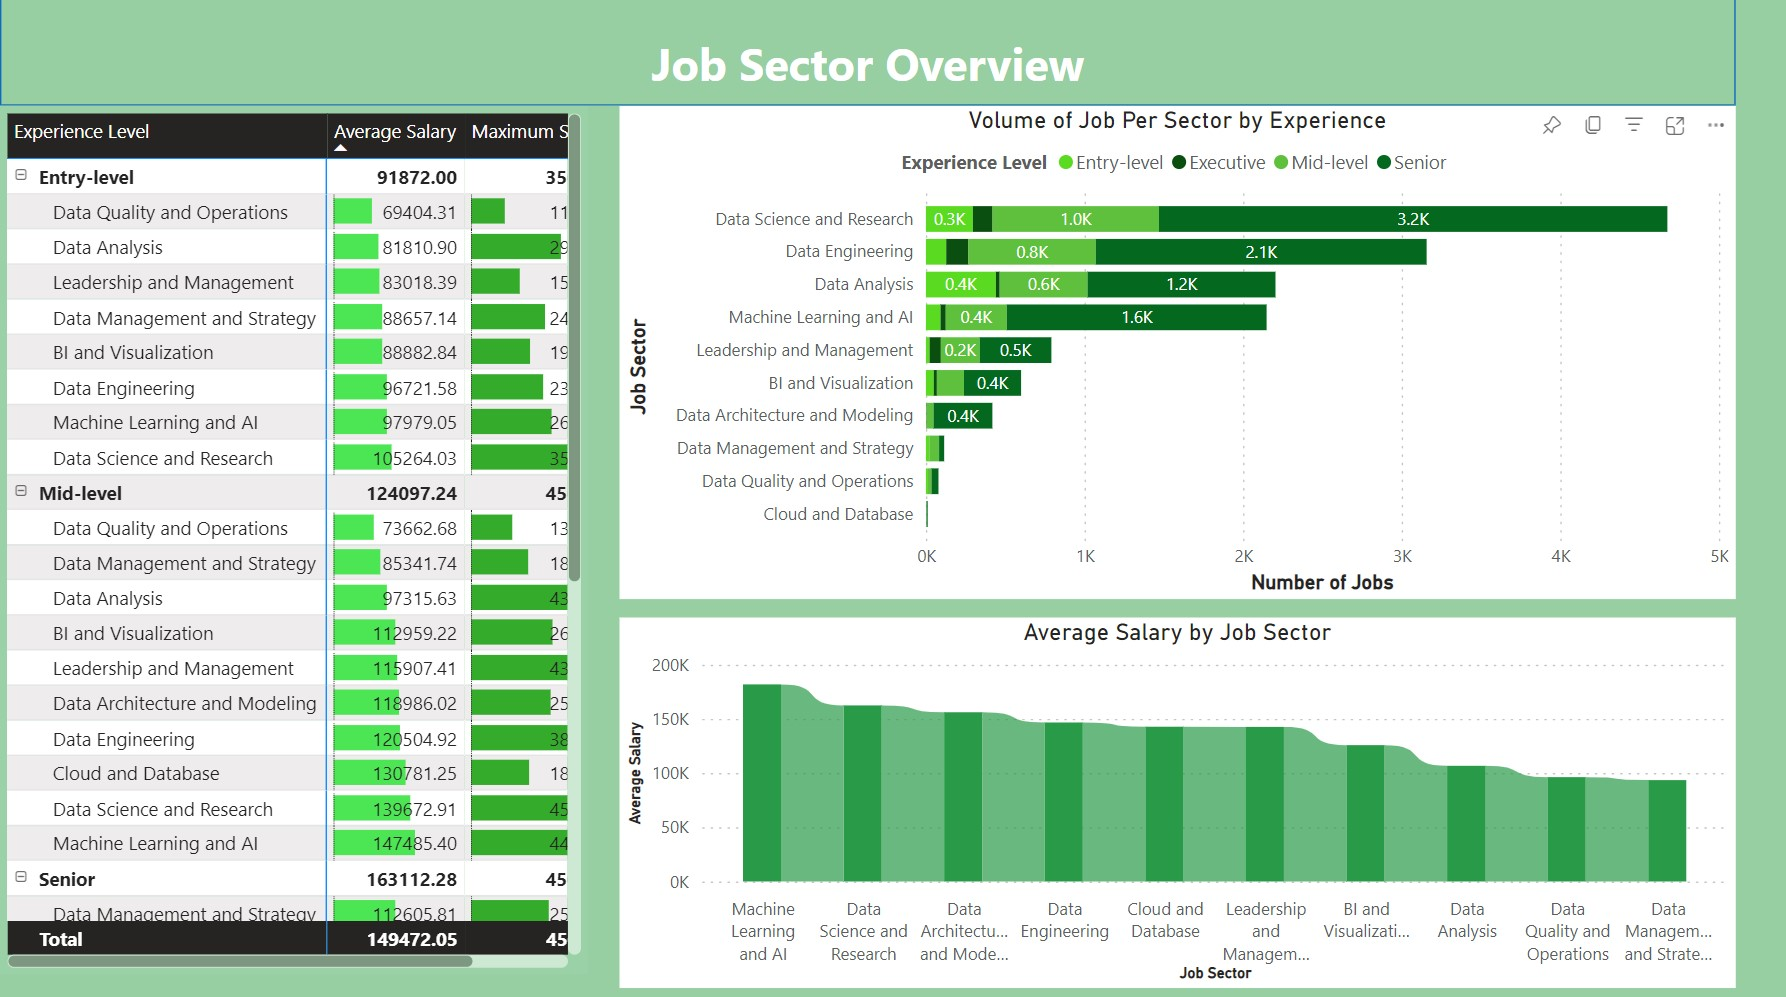

The dashboard page shown, as its layout file describes it:
{"tool":"powerbi","page":{"name":"Job Sectors","canvas":[1280,720],"ordinal":1},"visuals":[{"type":"shape","box":[0,0,1236.7,78.9],"z":0},{"type":"textbox","box":[0,21.1,1236.7,150],"z":1000},{"type":"ribbonChart","title":"Average Salary by Job Sector","fields":{"Category":["Jobs_count.job_category"],"Y":["Avg(Jobs_count.salary_in_usd)"]},"box":[441.2,443.8,795,263.8],"z":2000},{"type":"barChart","title":"Volume of Job Per Sector by Experience ","fields":{"Category":["Jobs_count.job_category"],"Series":["Jobs_count.experience_level"],"Y":["CountNonNull(Jobs_count.experience_level)"]},"box":[441.2,78.8,795,351.2],"z":3000},{"type":"pivotTable","fields":{"Rows":["Jobs_count.experience_level","Jobs_count.job_category"],"Values":["Avg(Jobs_count.salary_in_usd)","Max(Jobs_count.salary_in_usd)"]},"box":[0,78.8,418.8,618.8],"z":4000}]}

Visuals, with their boxes in screenshot pixels (x1, y1, x2, y2), scaled from the page's 1280x720 canvas onto the 1786x997 screenshot:
shape: BBox(0, 0, 1726, 109)
textbox: BBox(0, 29, 1726, 237)
"Average Salary by Job Sector" ribbonChart: BBox(616, 615, 1725, 980)
"Volume of Job Per Sector by Experience " barChart: BBox(616, 109, 1725, 595)
pivotTable - Jobs_count.experience_level x Jobs_count.job_category: BBox(0, 109, 584, 966)
